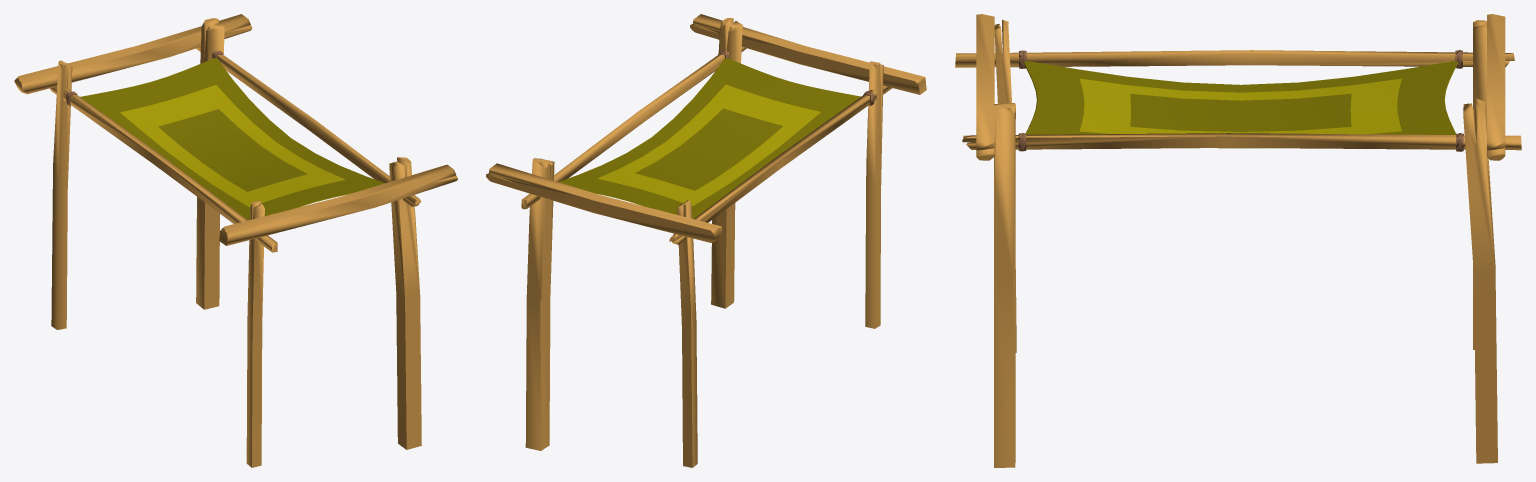
The model's file is Module_Awning_Large_LOD01.fbx.
The picture shows the model from 3 angles, left to right: view 1: azimuth 30°, elevation 25°; view 2: azimuth 150°, elevation 25°; view 3: azimuth 270°, elevation 25°; orthographic projection. The views are drawn at different scales.
Visible parts, largest first — view 1: Module_Awning_Large_LOD01_Geometry; view 2: Module_Awning_Large_LOD01_Geometry; view 3: Module_Awning_Large_LOD01_Geometry.
Boxes of the visible parts, x1,y1,x2,y2 form: Module_Awning_Large_LOD01_Geometry: (14,14,457,467); Module_Awning_Large_LOD01_Geometry: (486,14,926,467); Module_Awning_Large_LOD01_Geometry: (955,14,1521,467).
Size of the model in its own units: 4.14 by 4.9 by 7.06.
